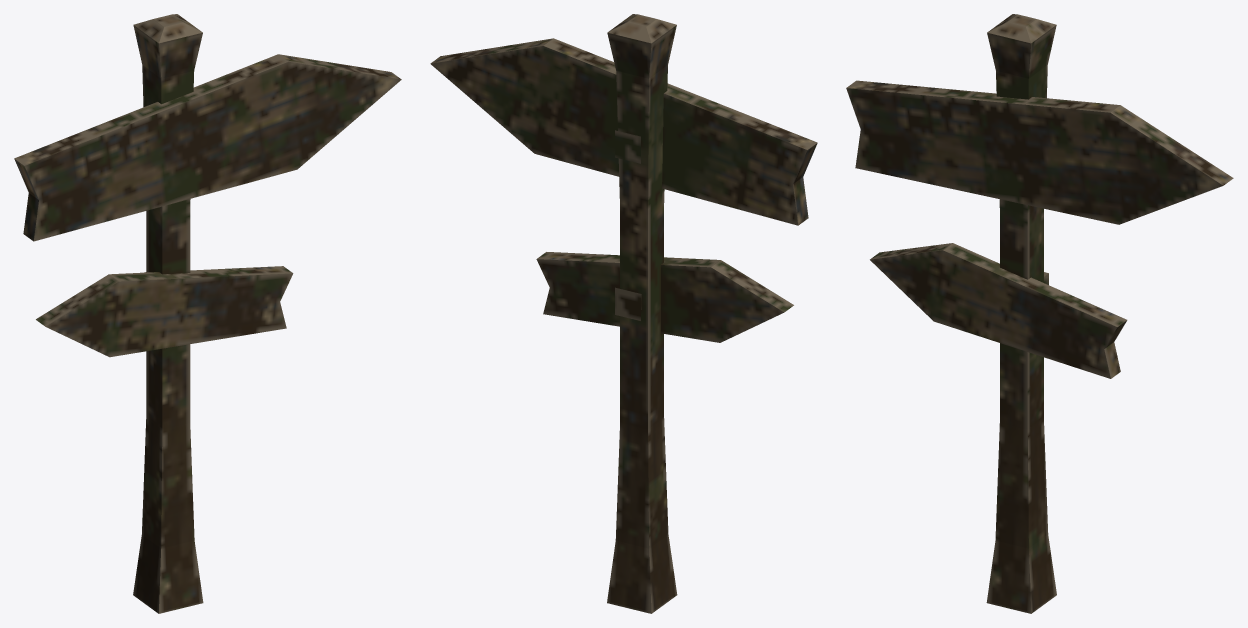
File: Sign.fbx
3 renders of one model, left to right at view 1: azimuth 30°, elevation 25°; view 2: azimuth 150°, elevation 25°; view 3: azimuth 330°, elevation 25°, orthographic.
Parts seen in each view (by area): view 1: Sign; view 2: Sign; view 3: Sign.
Boxes of the visible parts, x1=… form: Sign: x1=14, y1=14, x2=401, y2=613; Sign: x1=430, y1=14, x2=817, y2=613; Sign: x1=846, y1=14, x2=1233, y2=613.
Bounding box in the file's own units: 163 × 238 × 22.5.
Materials: 1 (1 with a texture image).
